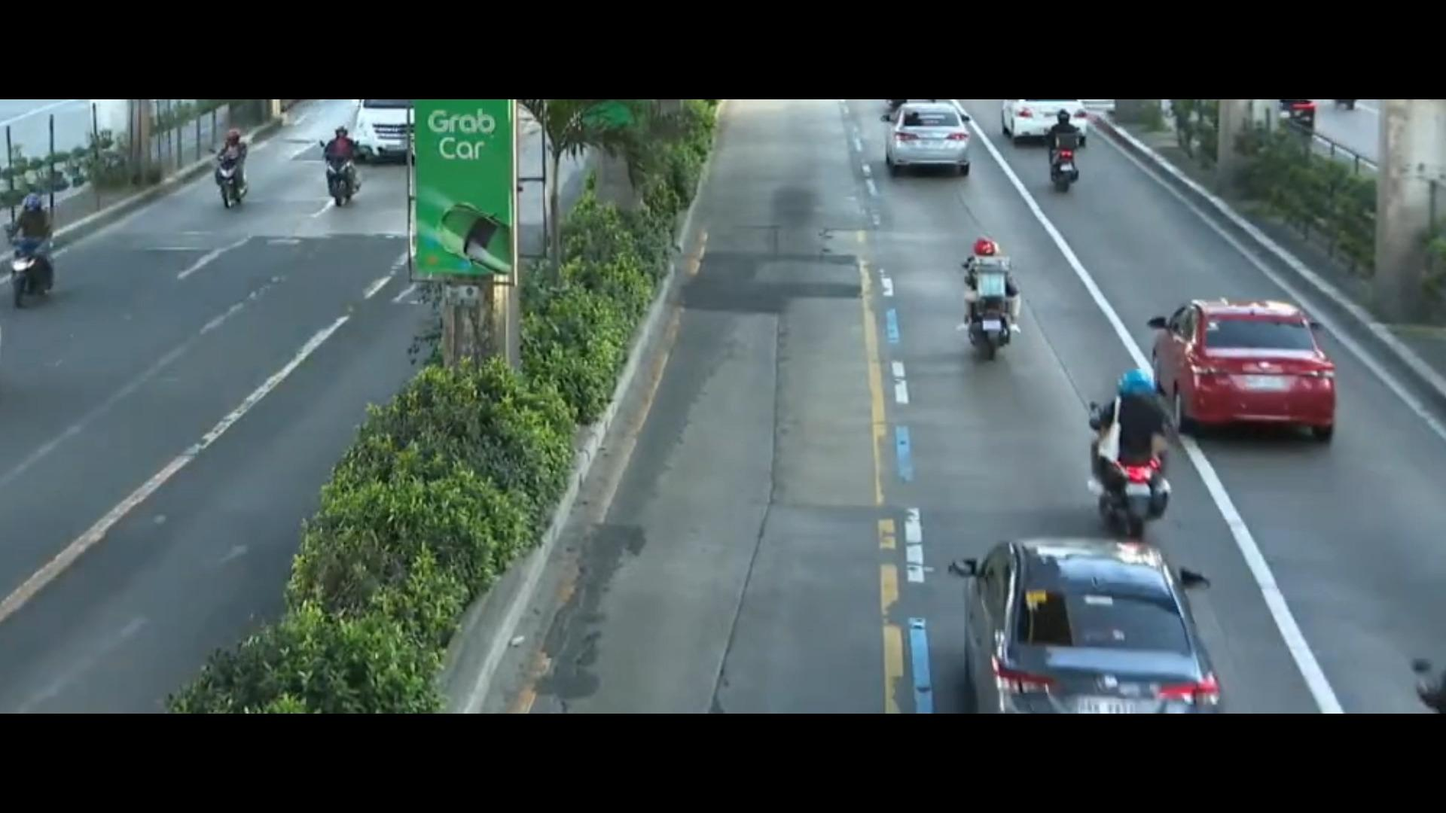Motorcycle: (1062, 349, 1195, 537), (941, 236, 1040, 384), (5, 166, 91, 292), (284, 121, 385, 218), (202, 128, 289, 238), (1037, 113, 1113, 210)
Sedan: (927, 505, 1240, 717), (1135, 282, 1363, 458), (855, 93, 997, 196)
